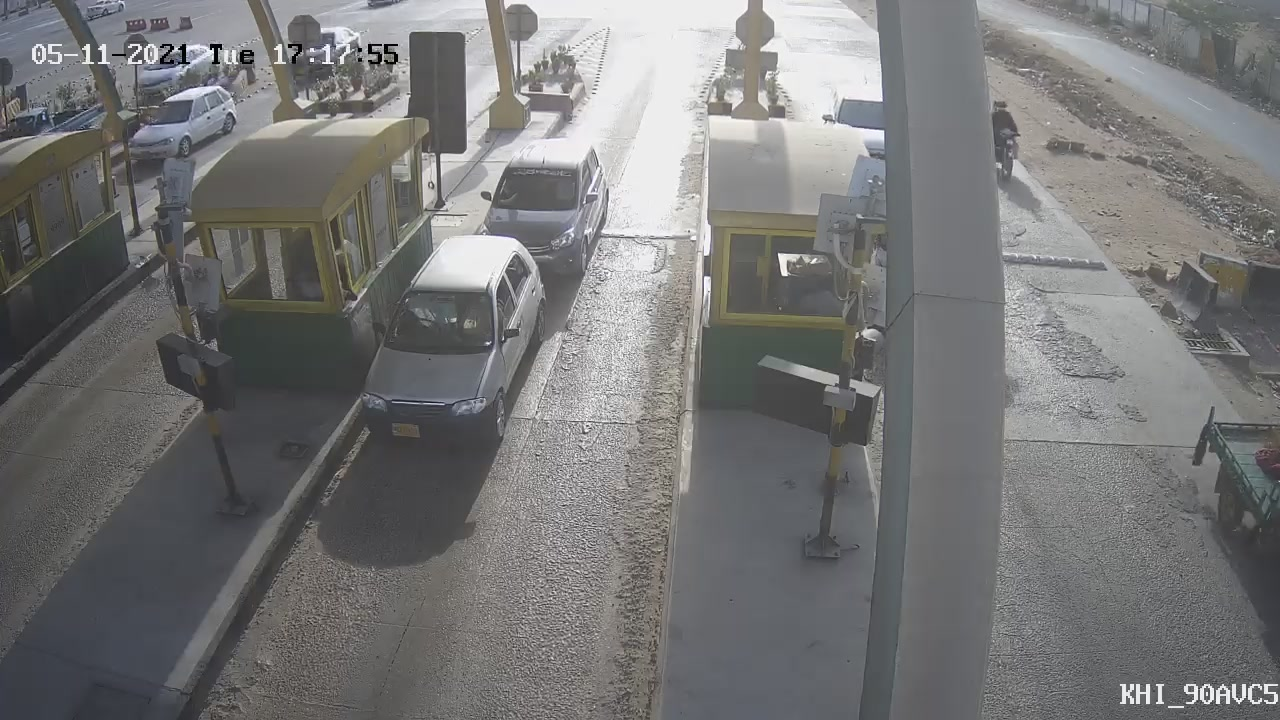F1: (334, 226, 565, 468), (453, 127, 624, 295)
